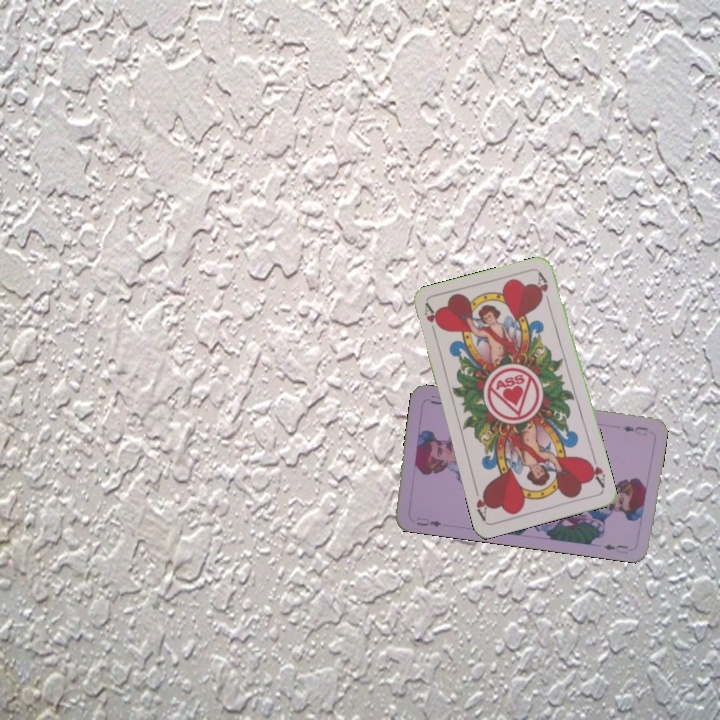EU: (619, 421, 650, 438), (413, 513, 444, 529)
HA: (583, 451, 608, 491), (420, 300, 443, 341)
